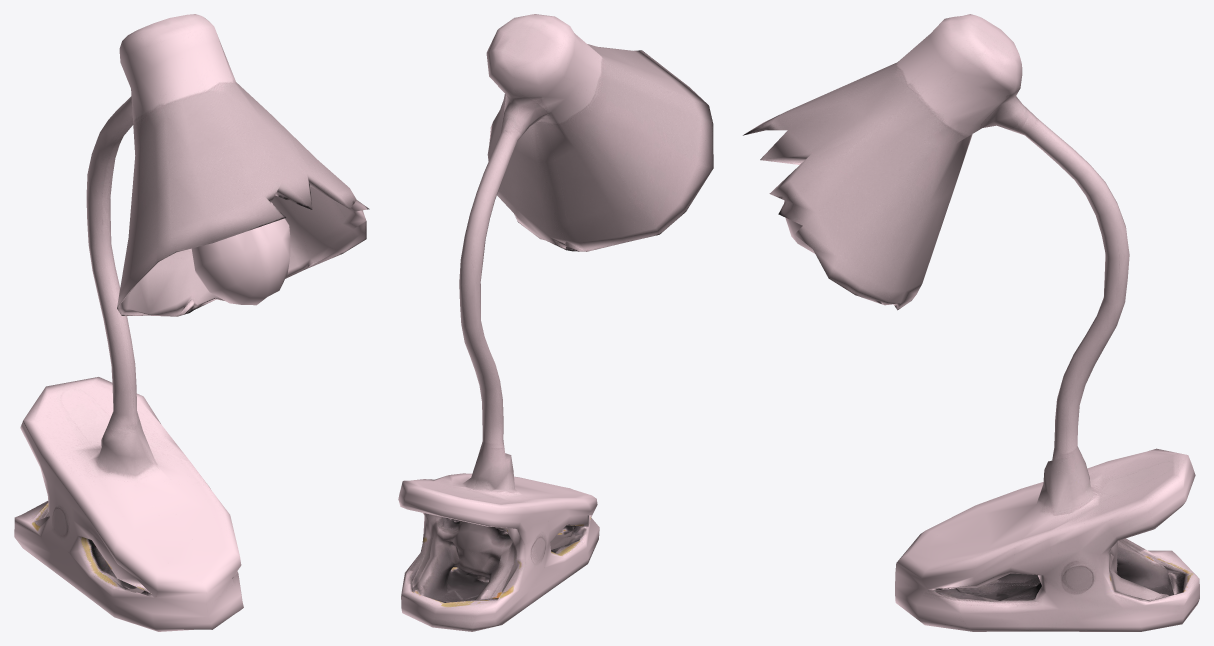
Rendered from lamp_clip_c2.glb.
The picture shows the model from 3 angles, left to right: view 1: azimuth 30°, elevation 25°; view 2: azimuth 150°, elevation 25°; view 3: azimuth 270°, elevation 25°; orthographic projection. The views are drawn at different scales.
Size of the model in its own units: 0.861 by 2 by 1.42.
1 material, 1 textured.
